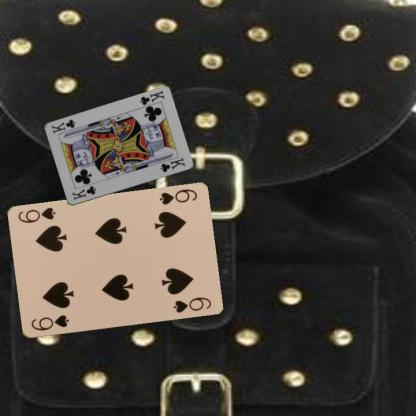6s: (28, 313, 70, 332), (157, 187, 198, 206)
Kc: (137, 88, 166, 107), (69, 184, 97, 202)
